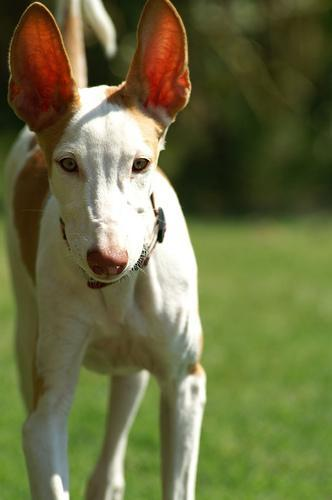Ibizan_hound: (3, 0, 206, 498)
